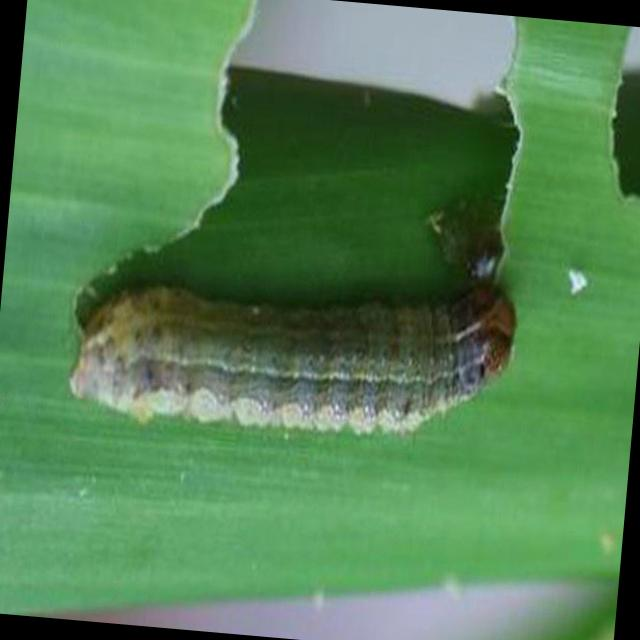pest: (77, 252, 521, 472)
